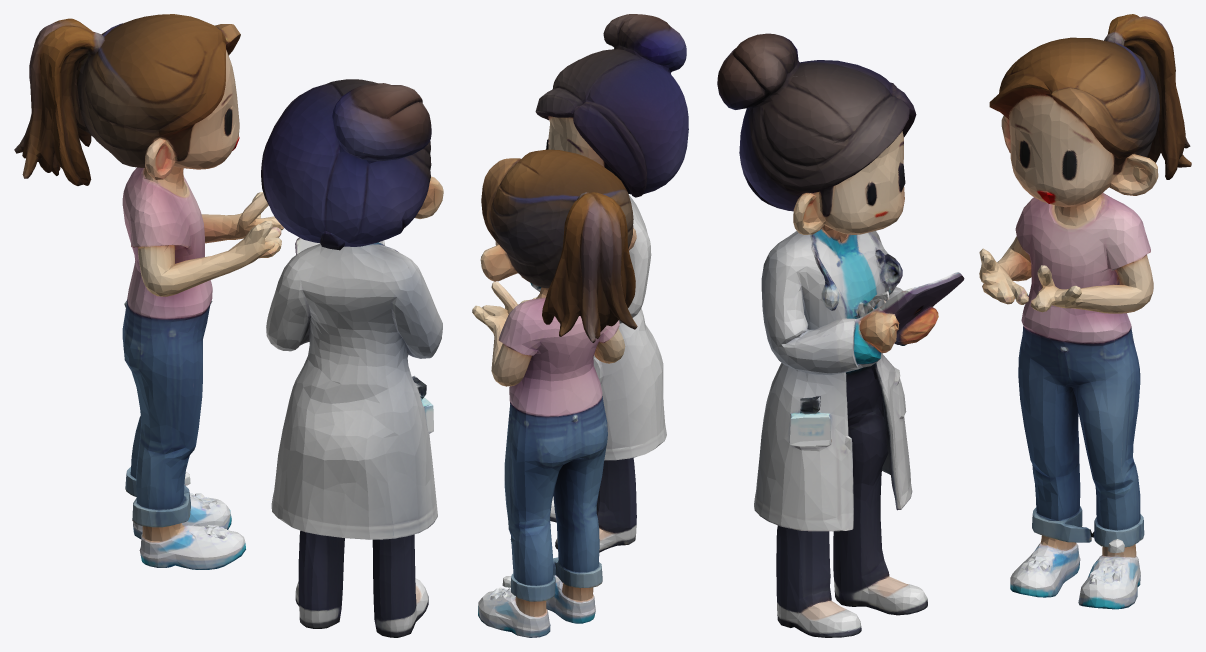
Rendered from docs.glb.
The picture shows the model from 3 angles, left to right: view 1: azimuth 30°, elevation 25°; view 2: azimuth 150°, elevation 25°; view 3: azimuth 270°, elevation 25°; orthographic projection. The views are drawn at different scales.
Parts seen in each view (by area): view 1: world; view 2: world; view 3: world.
Part boxes in pixels (<box>): world: <box>14,14,443,637</box>; world: <box>472,14,688,637</box>; world: <box>717,14,1191,637</box>.
Bounding box in the file's own units: 0.4855 × 1 × 0.7615.
Materials: 1 (1 with a texture image).
